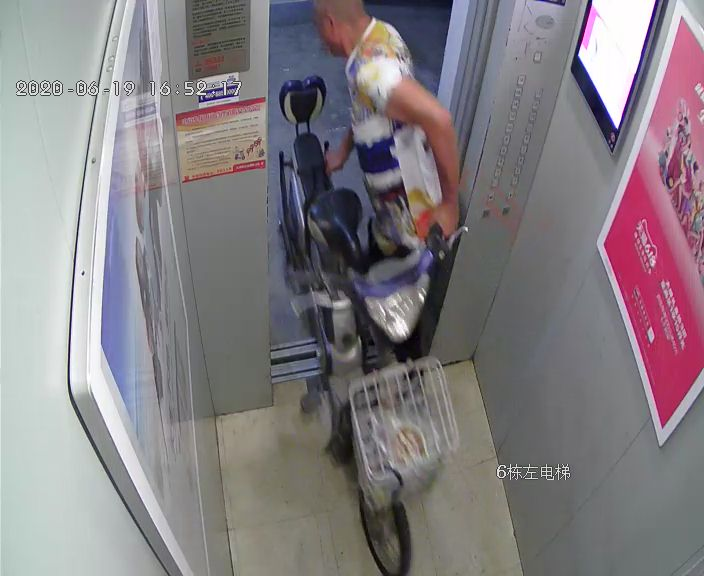Electric-bicycle: (277, 71, 471, 567)
